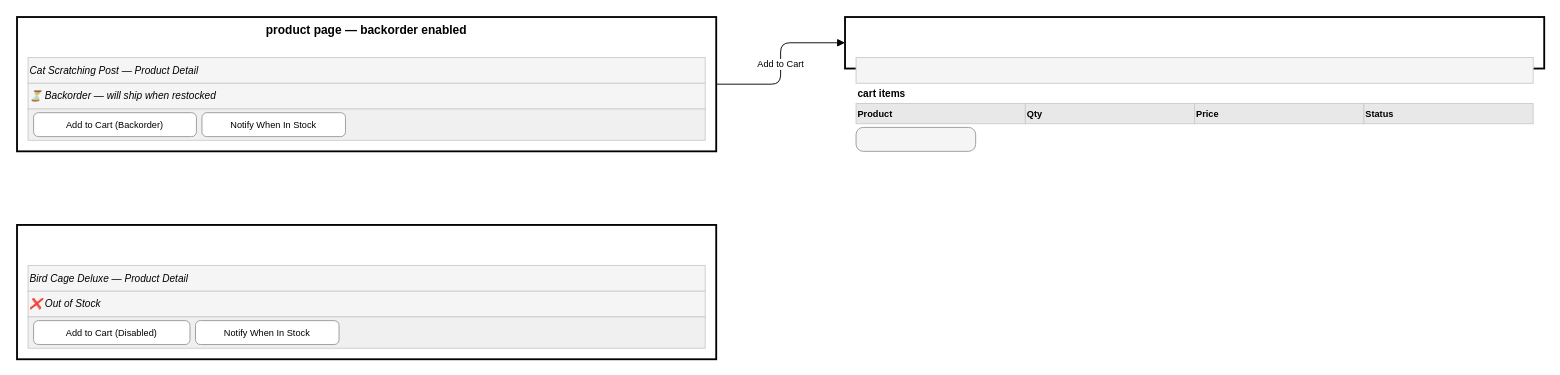
This 1560x375 diagram has some shape labels left out. Here are the shapes that lost their labels. From the top down, the box of each, then its label:
(844, 16, 1545, 69): cart with backorder item
(855, 57, 1533, 83): Shopping Cart
(855, 126, 976, 151): Proceed to Checkout
(16, 224, 717, 360): product page — out of stock (no backorder)
